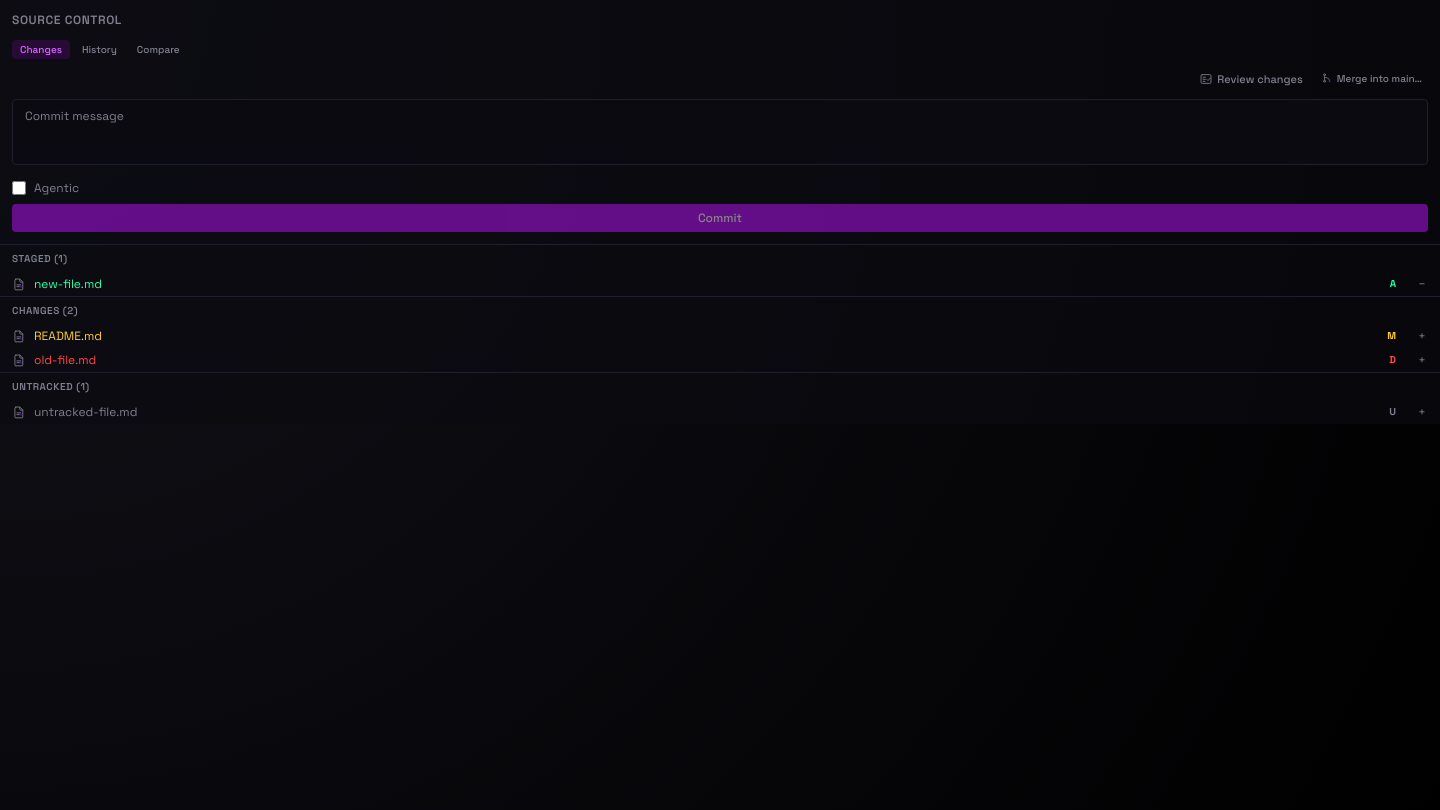
SourceControlPanel › asks before discarding and touches nothing while the question stands
Right-click the text "README.md" at [68, 336], box [34, 328, 102, 344]
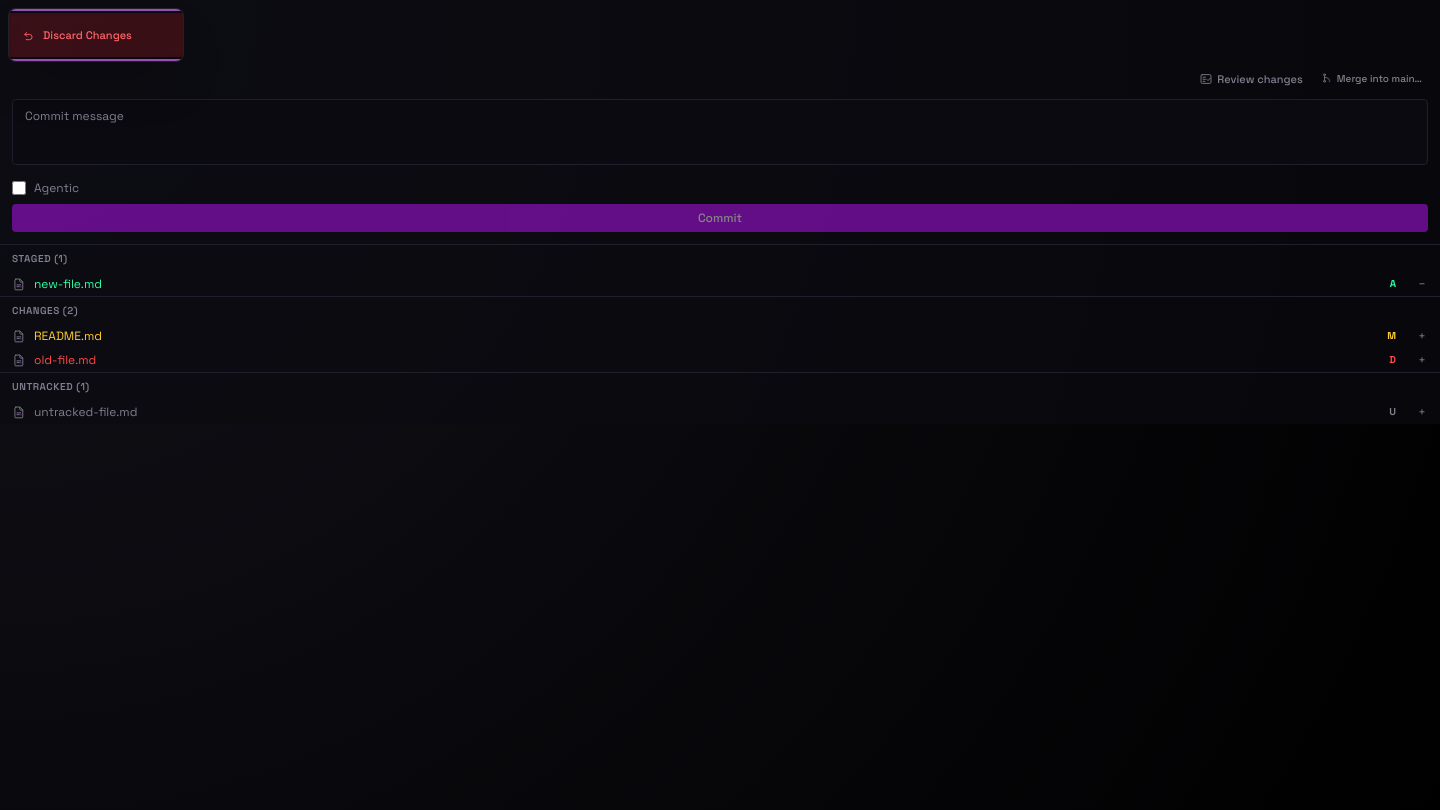
Click the menu item "Discard Changes" at [96, 35], box [9, 13, 183, 57]
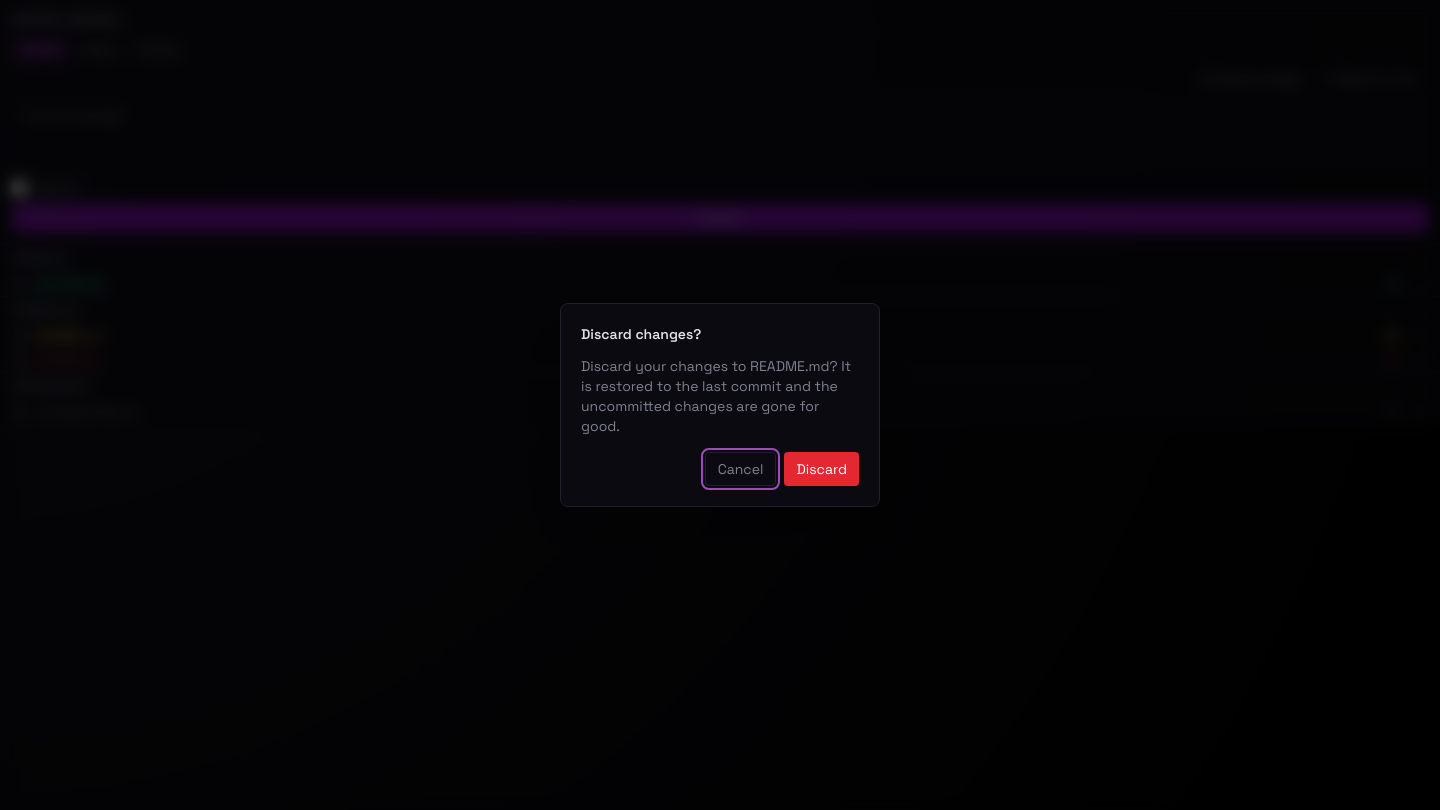
Result: the dialog is shown at [560, 303, 880, 507]
